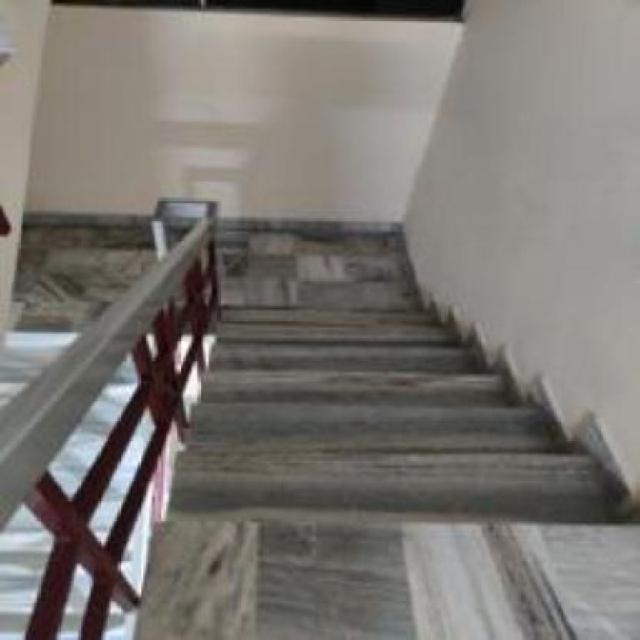stair: (149, 290, 640, 555)
